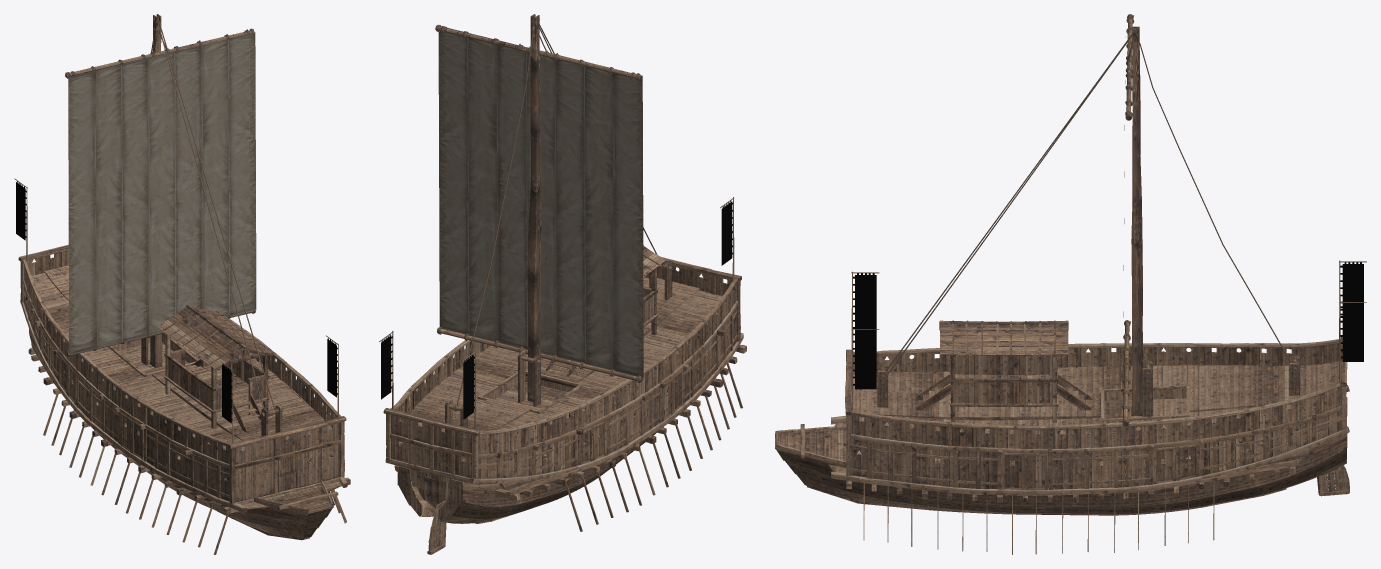
Rendered from anteck.fbx.
The picture shows the model from 3 angles, left to right: view 1: azimuth 30°, elevation 25°; view 2: azimuth 150°, elevation 25°; view 3: azimuth 270°, elevation 25°; orthographic projection. The views are drawn at different scales.
Visible parts, largest first — view 1: pPlane3, polySurface2588, polySurface2643, polySurface2664, polySurface2663, polySurface2803, polySurface2662, polySurface2652, polySurface2851, polySurface2821, polySurface2791, polySurface2655 (+17 smaller); view 2: pPlane3, polySurface2588, polySurface2664, polySurface2663, polySurface2827, polySurface2662, polySurface2643, polySurface2652, polySurface2820, polySurface2851, polySurface2821, polySurface2594 (+15 smaller); view 3: polySurface2588, polySurface2661, polySurface2640, polySurface2655, polySurface2644, polySurface2662, polySurface2645, polySurface2651, polySurface2827, polySurface2803, polySurface2780, polySurface2785 (+14 smaller).
Boxes of the visible parts, x1,y1,x2,y2 form: pPlane3: (68,32,256,355); polySurface2588: (31,265,332,450); polySurface2643: (27,250,340,502); polySurface2664: (23,276,229,498); polySurface2663: (23,286,229,501); polySurface2803: (157,306,276,368); polySurface2662: (24,267,229,464); polySurface2652: (20,300,247,512); polySurface2851: (22,259,230,445); polySurface2821: (111,445,307,531); polySurface2791: (163,365,270,411); polySurface2655: (255,355,336,427); pPlane3: (438,26,643,378); polySurface2588: (402,277,725,436); polySurface2664: (478,291,738,478); polySurface2663: (478,308,736,478); polySurface2827: (527,14,541,401); polySurface2662: (478,283,736,454); polySurface2643: (391,263,734,477); polySurface2652: (468,333,743,495); polySurface2820: (462,353,708,506); polySurface2851: (480,278,737,433); polySurface2821: (452,432,656,518); polySurface2594: (477,370,583,413); polySurface2588: (851,361,1341,434); polySurface2661: (851,410,1341,489); polySurface2640: (851,392,1341,490); polySurface2655: (851,385,1341,449); polySurface2644: (776,433,1347,507); polySurface2662: (853,343,1341,374); polySurface2645: (785,449,1345,513); polySurface2651: (831,426,1349,495); polySurface2827: (1131,26,1143,416); polySurface2803: (940,320,1068,355); polySurface2780: (851,382,1340,429); polySurface2785: (955,382,1052,403).
Bounding box in the file's own units: 20.06 × 44.7 × 49.85.
